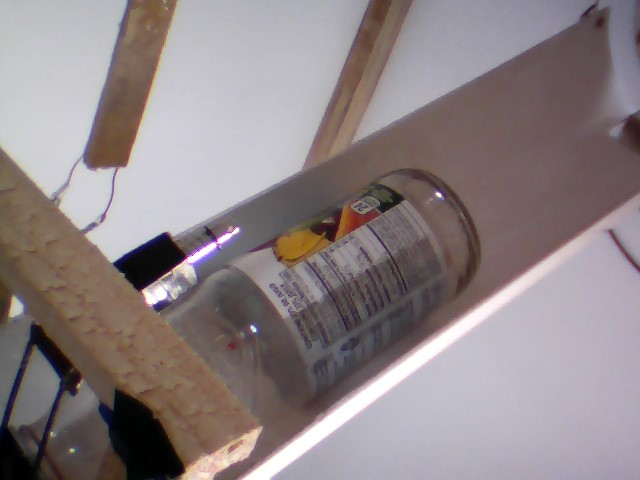vidrio: (170, 162, 487, 426)
